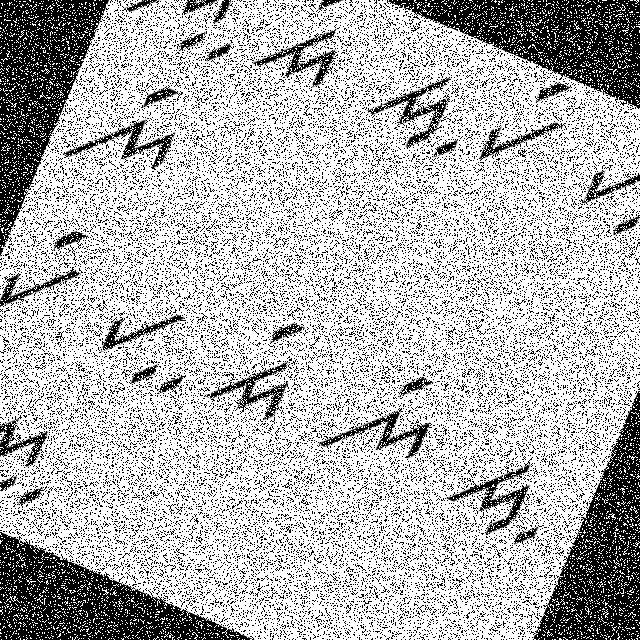dah: (426, 420, 574, 568), (345, 41, 485, 170)
dang: (193, 291, 320, 432), (242, 0, 372, 101)
nah: (0, 382, 78, 525), (108, 0, 257, 74)
nang: (302, 324, 462, 488), (59, 55, 204, 204)
pah: (75, 269, 216, 413), (558, 122, 639, 264)
pang: (462, 57, 580, 190), (0, 202, 104, 337)
